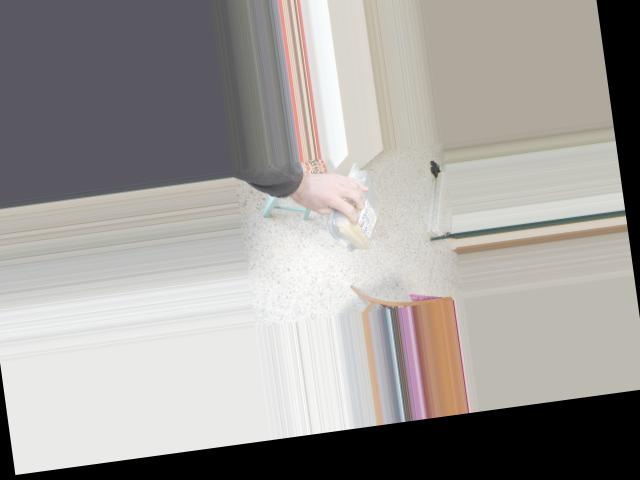cheese: (329, 161, 383, 252)
